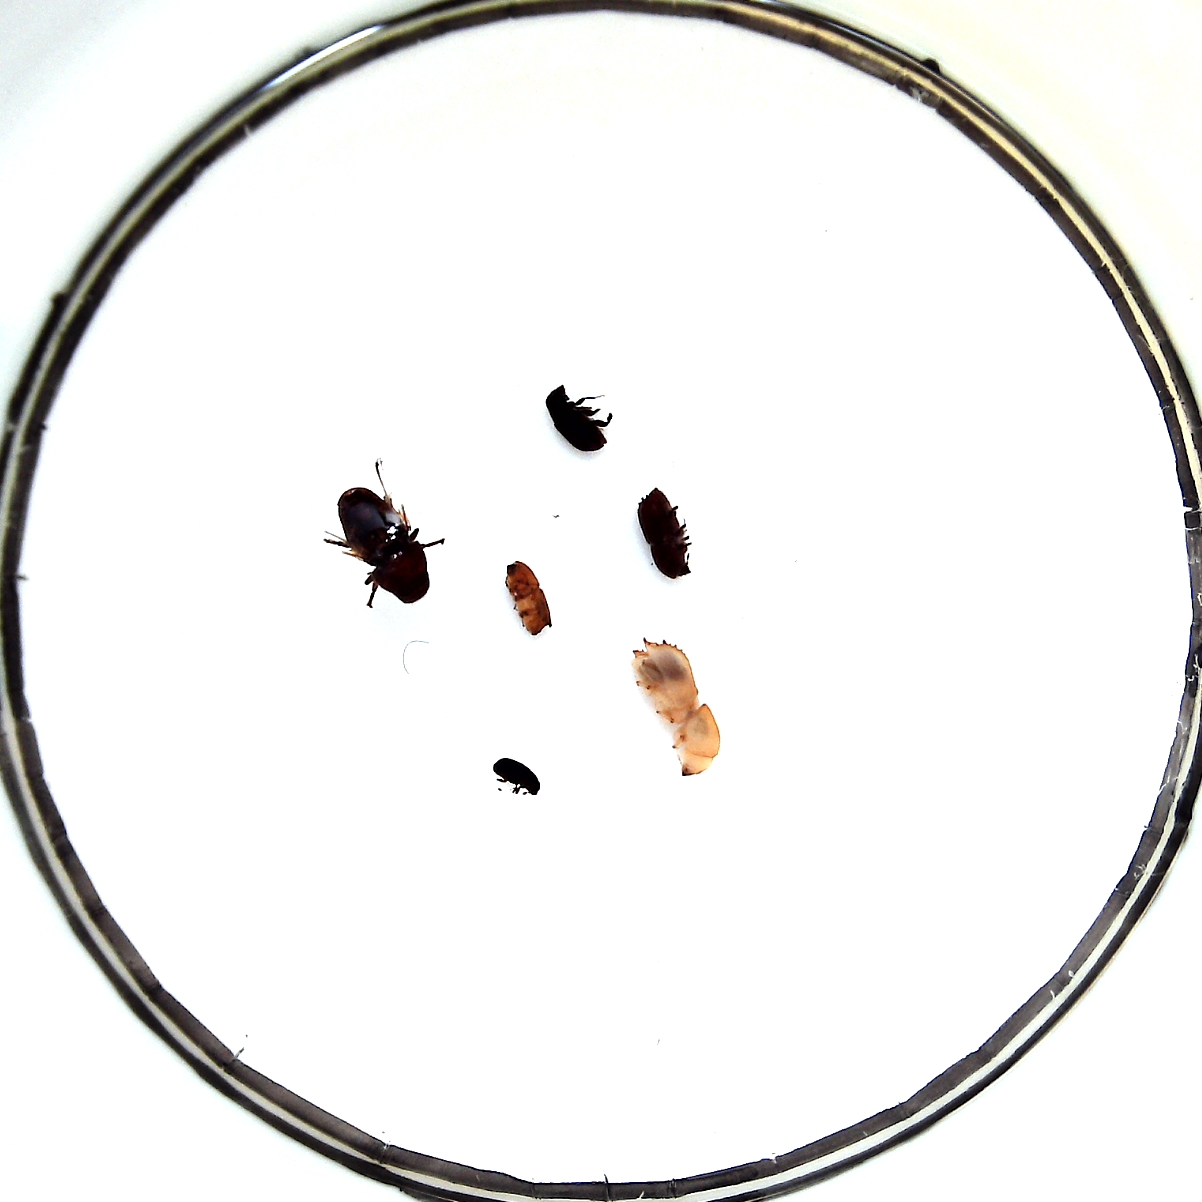Boerner: (630, 638, 721, 776)
Leconte: (337, 487, 429, 605)
acuminatus: (493, 758, 540, 796)
armandi: (545, 386, 607, 454)
linnaeus: (637, 488, 692, 579), (505, 561, 551, 636)
